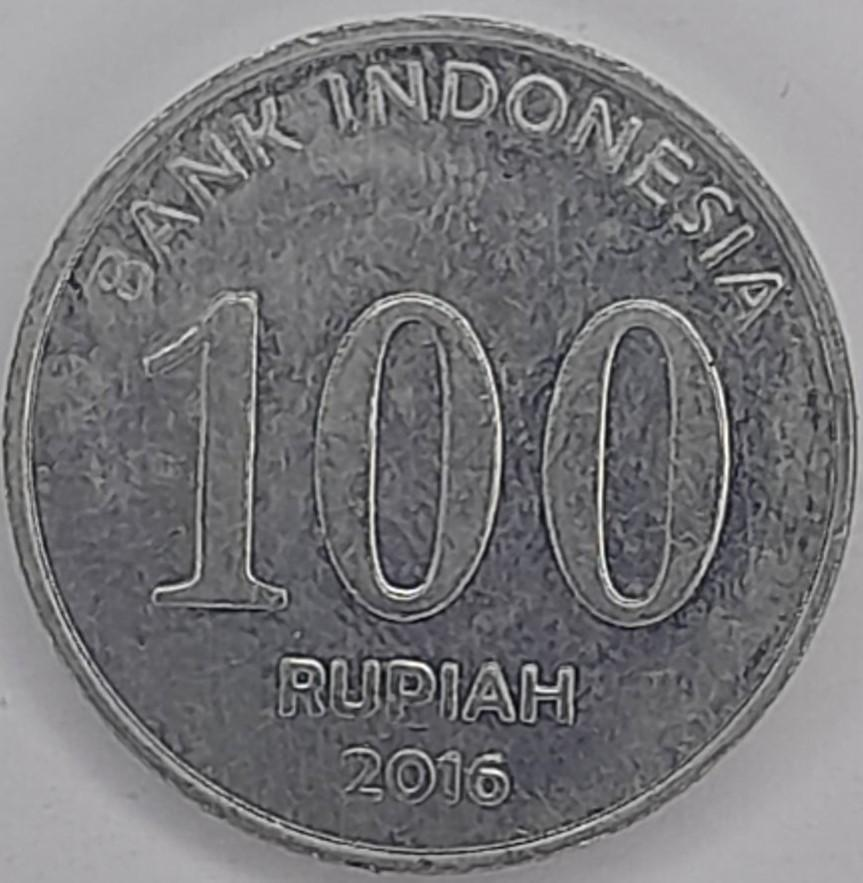coin_100_e2016: (0, 6, 862, 878)
